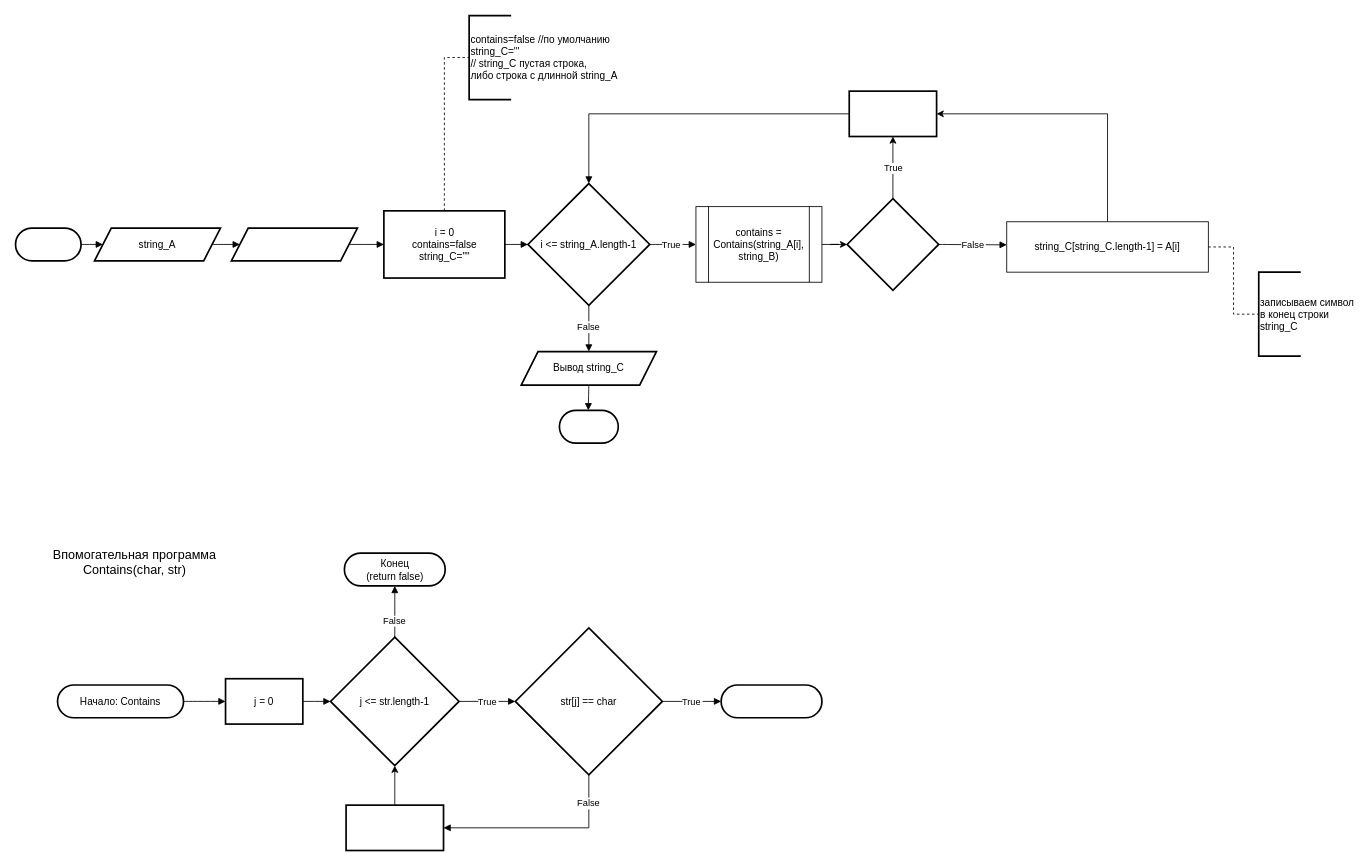
Image size: 1371x865. Some labels were removed from this diagram. Each missing label, with the centre of its shape:
"contains" belongs at (x=892, y=244).
"i = i+1" belongs at (x=892, y=113).
"j = j + 1" belongs at (x=394, y=827).
"string_B" belongs at (x=294, y=244).
"Конец" belongs at (x=588, y=426).
"Конец (return true)" belongs at (x=771, y=701).
"Начало" belongs at (x=47, y=244).
